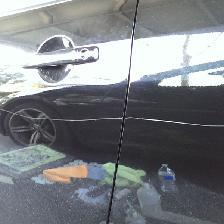scrach: (1, 98, 223, 145)
